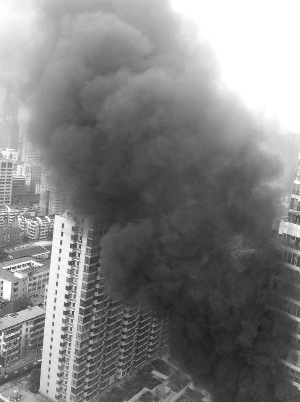smoke: (38, 7, 291, 385)
